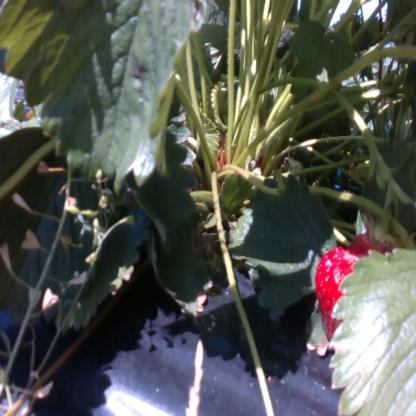ripe: (320, 232, 400, 341)
